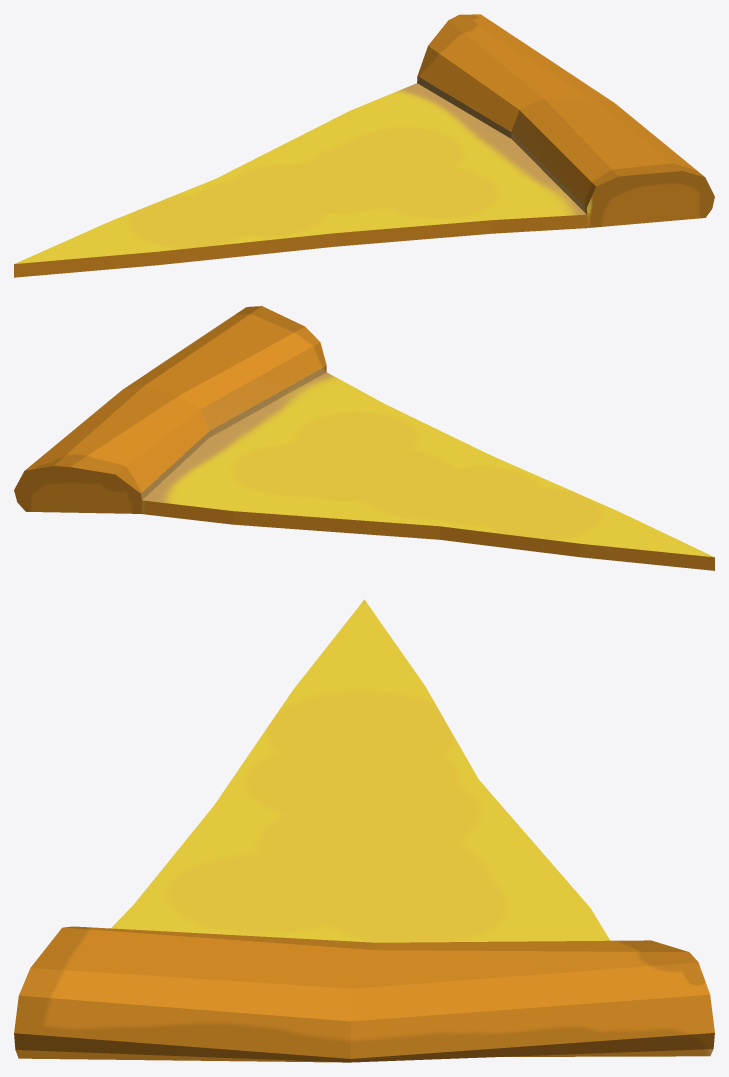
The model's file is slice.fbx.
3 views of the same model, one above another, from view 1: azimuth 30°, elevation 25°; view 2: azimuth 150°, elevation 25°; view 3: azimuth 270°, elevation 25° (orthographic). The views are drawn at different scales.
Parts seen in each view (by area): view 1: Plane; view 2: Plane; view 3: Plane.
Boxes of the visible parts, box(x1,y1,x2,y2) form: Plane: box(14, 14, 714, 277); Plane: box(14, 306, 714, 570); Plane: box(14, 599, 714, 1062).
Size of the model in its own units: 308 by 23.88 by 200.
1 material, 1 textured.
